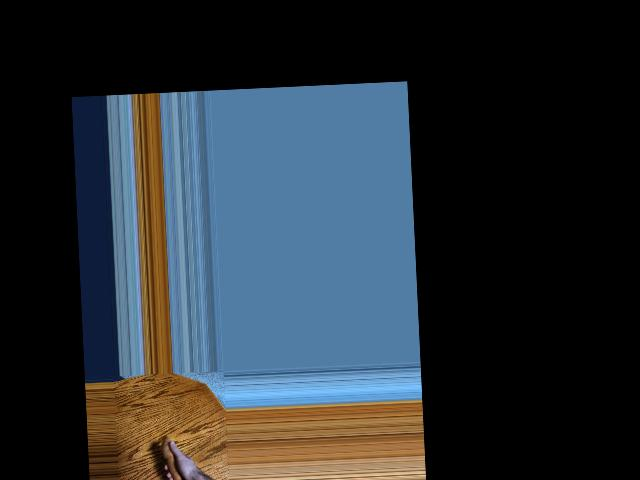sweet_potato: (158, 437, 196, 480)
